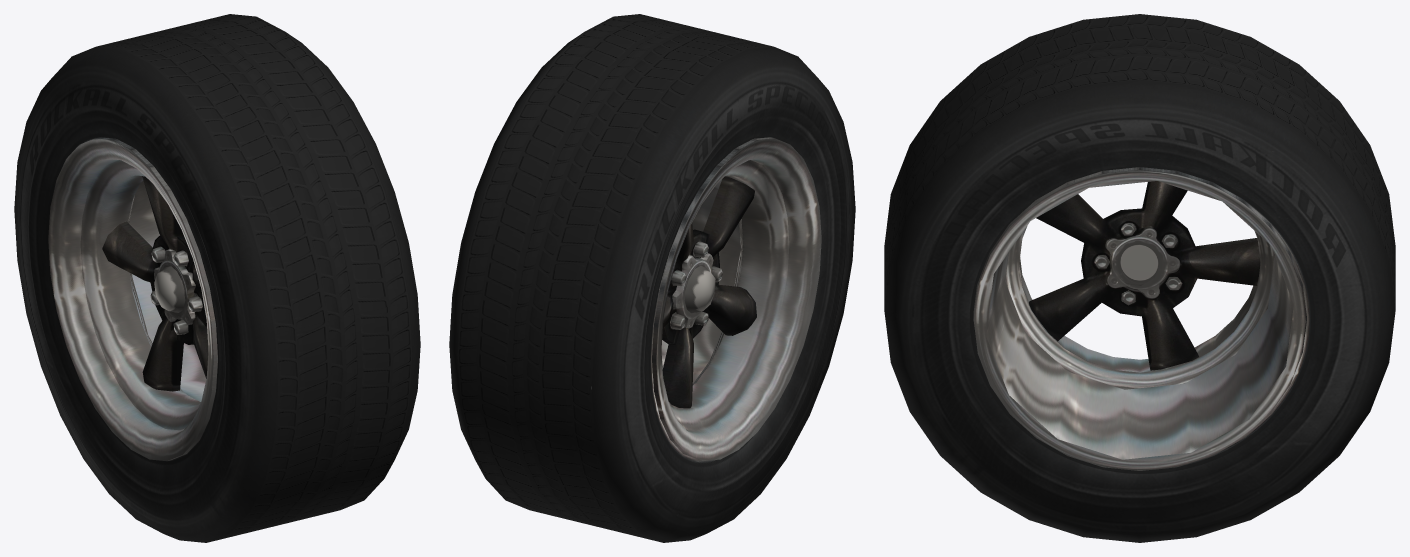
Rendered from Wheel.glb.
3 renders of one model, left to right at view 1: azimuth 30°, elevation 25°; view 2: azimuth 150°, elevation 25°; view 3: azimuth 270°, elevation 25°, orthographic.
Parts seen in each view (by area): view 1: Wheel_FR; view 2: Wheel_FR; view 3: Wheel_FR.
Part boxes in pixels (left/top/right/bottom): Wheel_FR: left=14, top=14, right=420, bottom=542; Wheel_FR: left=449, top=14, right=855, bottom=542; Wheel_FR: left=884, top=14, right=1395, bottom=542.
Bounding box in the file's own units: 0.2542 × 0.6422 × 0.6422.
1 material, 1 textured.
